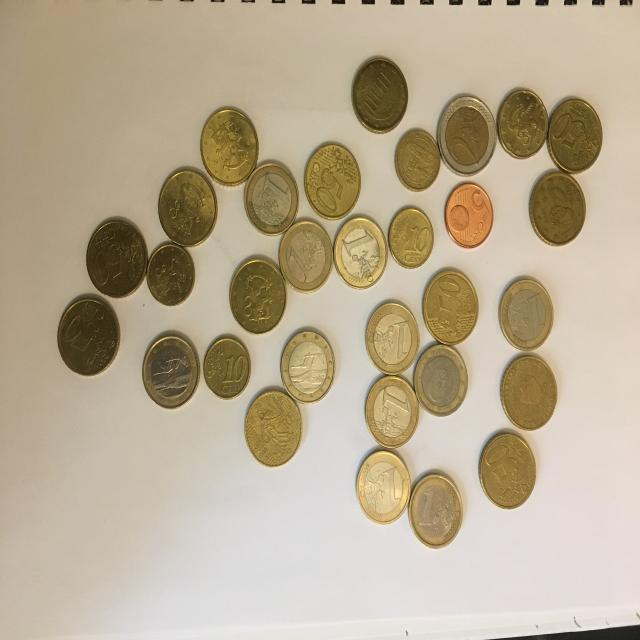10c: (385, 204, 438, 272), (144, 241, 197, 308), (202, 333, 252, 400), (394, 124, 442, 193)
1e: (242, 154, 301, 236), (412, 340, 472, 420), (140, 334, 201, 410), (354, 448, 414, 525), (276, 220, 336, 296), (362, 374, 422, 450), (410, 472, 467, 550), (332, 212, 387, 292), (496, 277, 555, 351), (363, 301, 422, 375), (280, 329, 335, 404)
20c: (528, 167, 588, 247), (497, 85, 552, 163)
2e: (434, 90, 500, 180)
50c: (152, 163, 222, 251), (54, 294, 124, 378), (345, 51, 411, 138), (85, 214, 151, 300), (198, 106, 264, 188), (474, 429, 538, 512), (303, 137, 366, 221), (245, 386, 307, 471), (497, 351, 558, 435), (226, 257, 289, 336), (420, 264, 480, 345), (545, 95, 604, 175)
